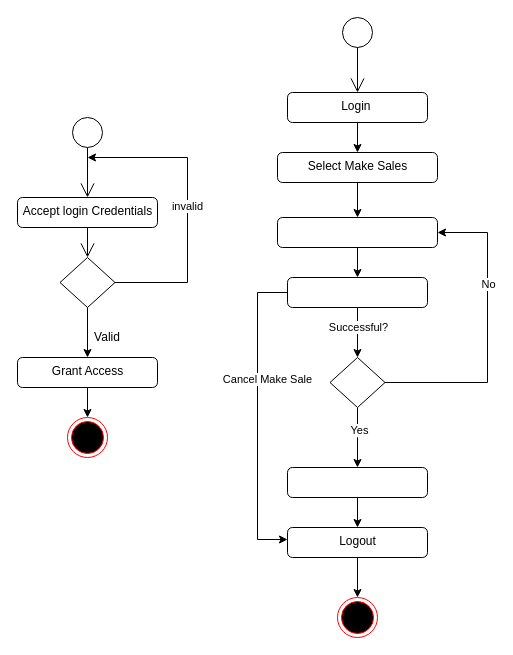
This 513x655 diagram has some shape labels left out. The box of each missing label's shape, as (x1, y1, x2, y2) in pixels:
Add all product and Qty: (276, 216, 438, 248)
Print Invoice: (286, 466, 428, 498)
Submit: (286, 276, 428, 308)
